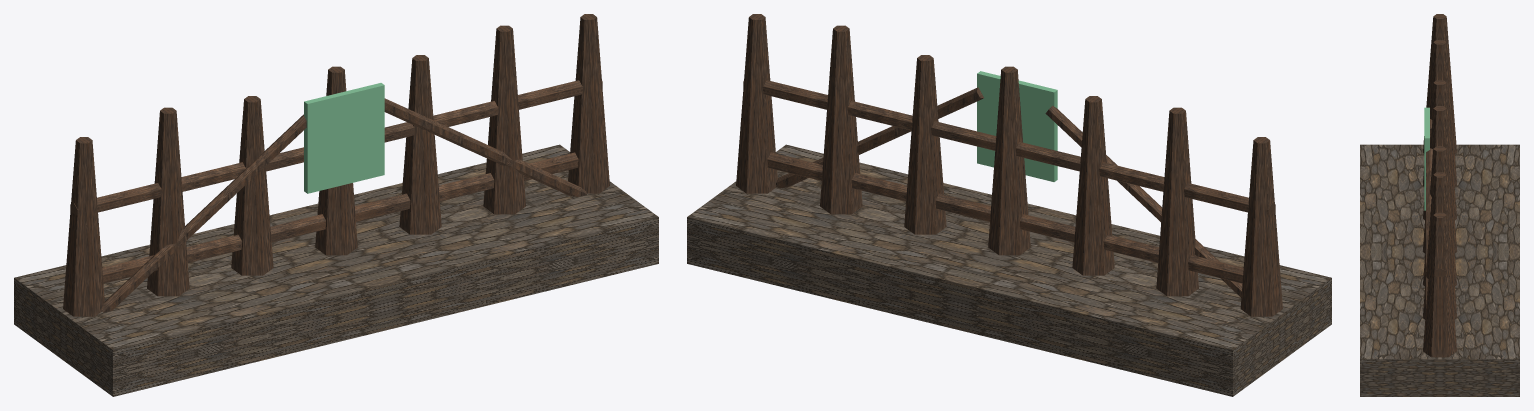
File: edificio-wall-e0-DSfMgNyK.glb
3 views of the same model, side by side, from view 1: azimuth 30°, elevation 25°; view 2: azimuth 150°, elevation 25°; view 3: azimuth 270°, elevation 25° (orthographic). The views are drawn at different scales.
Visible parts, largest first — view 1: edificio-wall-e0_detalles, edificio-wall-e0_envolvente, edificio-wall-e0_team_color; view 2: edificio-wall-e0_detalles, edificio-wall-e0_envolvente, edificio-wall-e0_team_color; view 3: edificio-wall-e0_detalles, edificio-wall-e0_envolvente, edificio-wall-e0_team_color.
Boxes of the visible parts, x1,y1,x2,y2 form: edificio-wall-e0_detalles: (14,98,658,396); edificio-wall-e0_envolvente: (63,14,609,316); edificio-wall-e0_team_color: (304,83,384,193); edificio-wall-e0_detalles: (687,87,1331,396); edificio-wall-e0_envolvente: (736,14,1282,316); edificio-wall-e0_team_color: (977,71,1057,181); edificio-wall-e0_detalles: (1360,119,1519,396); edificio-wall-e0_envolvente: (1422,14,1457,357); edificio-wall-e0_team_color: (1424,107,1429,210).
Size of the model in its own units: 31.8 by 12.5 by 10.
Materials: 3 (2 with a texture image).
